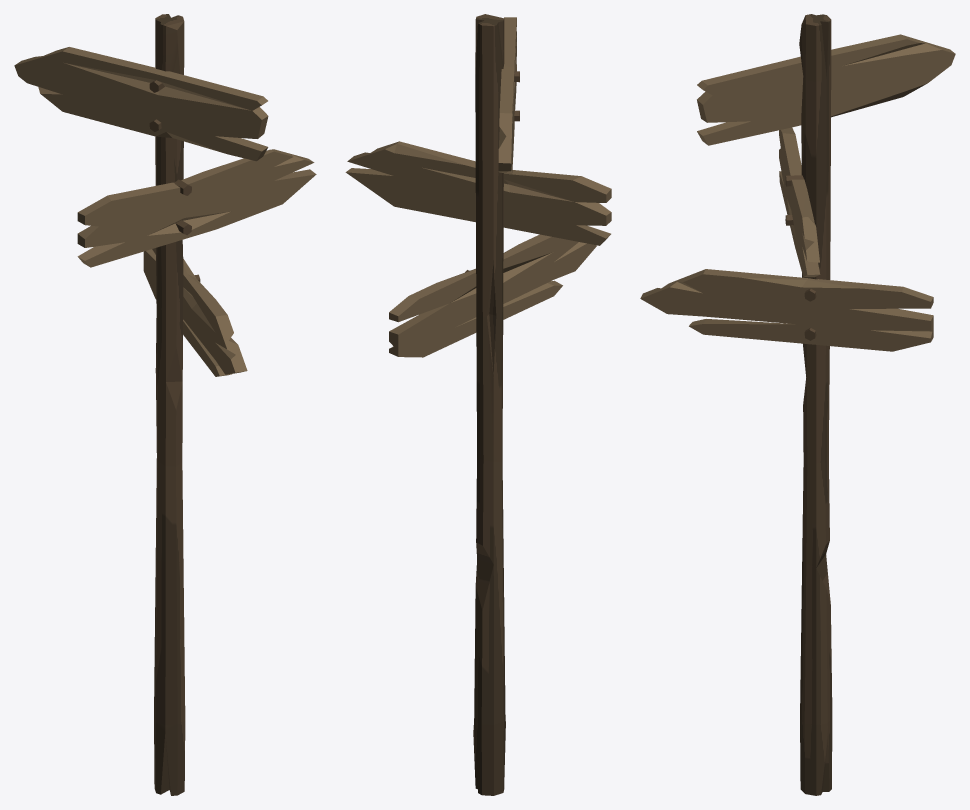
File: SM_Prop_Sign_02.fbx
The picture shows the model from 3 angles, left to right: view 1: azimuth 30°, elevation 25°; view 2: azimuth 150°, elevation 25°; view 3: azimuth 270°, elevation 25°; orthographic projection.
Parts seen in each view (by area): view 1: SM_Prop_Sign_02; view 2: SM_Prop_Sign_02; view 3: SM_Prop_Sign_02.
Boxes of the visible parts, x1,y1,x2,y2 form: SM_Prop_Sign_02: (14, 14, 316, 795); SM_Prop_Sign_02: (345, 14, 611, 795); SM_Prop_Sign_02: (640, 14, 955, 795).
Bounding box in the file's own units: 99.2 × 296 × 110.
Materials: 1 (1 with a texture image).
